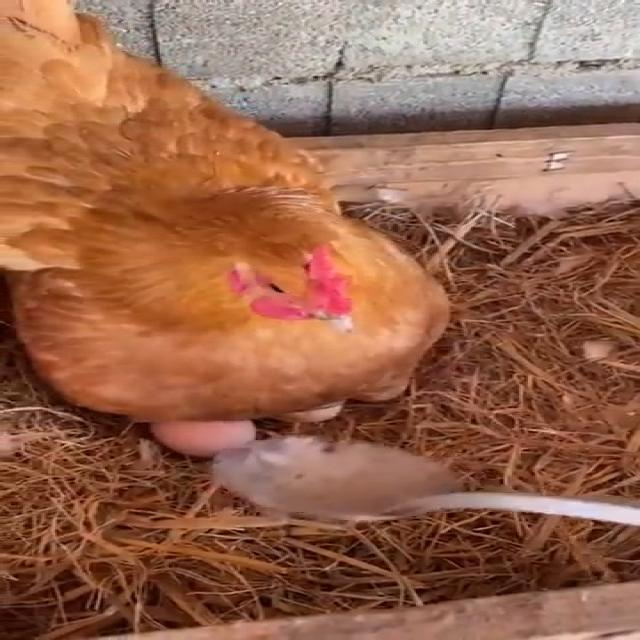crouch chicken: (0, 0, 459, 450)
